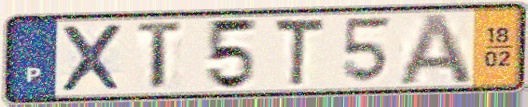5: (202, 17, 258, 92), (339, 15, 396, 87)
A: (395, 11, 478, 88)
T: (271, 16, 328, 89), (134, 19, 188, 93)
X: (57, 21, 126, 95)
